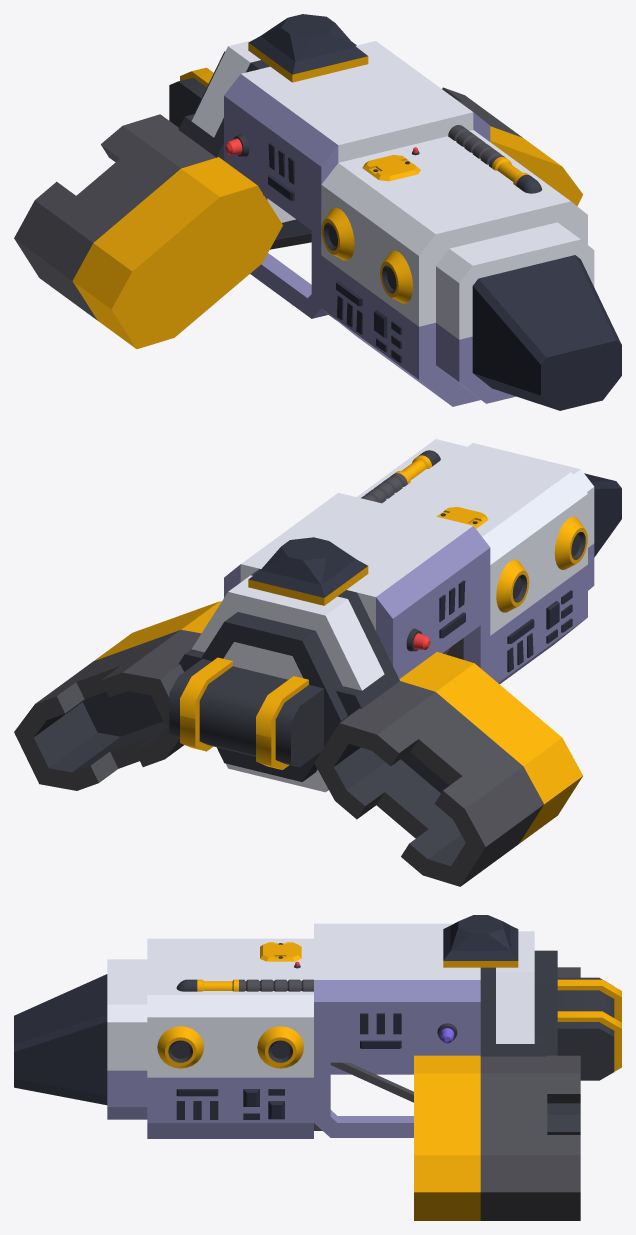
Rendered from Ship_0 3D.fbx.
3 renders of one model, top to bottom at view 1: azimuth 30°, elevation 25°; view 2: azimuth 150°, elevation 25°; view 3: azimuth 270°, elevation 25°, orthographic. The views are drawn at different scales.
Visible parts, largest first — view 1: engine_low (×2), hull_body, hull_cockpitExtended%, hull_cargoLower, window_dome, engine_turbineLarge%, detail_ventRound (×2), detail_panelsC (×2), detail_luggage, detail_panelBolts, detail_pipeRibbed, detail_pipeEndRound (+1 smaller); view 2: engine_low (×2), hull_cargoLower, hull_body, engine_turbineLarge%, detail_luggage (×2), window_dome, hull_cockpitExtended%, detail_ventRound (×2), detail_panelsC (×2), detail_panelsB, detail_pipeRibbed, detail_panelBolts (+1 smaller); view 3: engine_low, hull_body, hull_cargoLower, hull_cockpitExtended%, engine_turbineLarge%, detail_luggage (×2), window_dome, detail_ventRound (×2), detail_panelsC (×2), detail_pipeRibbed, gear_half, detail_panelsA (+2 smaller).
Part boxes in pixels (x1=…): engine_low (×2): x1=14, y1=87, x2=582, y2=349; hull_body: x1=321, y1=130, x2=587, y2=406; hull_cockpitExtended%: x1=436, y1=222, x2=621, y2=410; hull_cargoLower: x1=224, y1=41, x2=490, y2=318; window_dome: x1=248, y1=14, x2=368, y2=82; engine_turbineLarge%: x1=178, y1=40, x2=356, y2=238; detail_ventRound (×2): x1=321, y1=208, x2=412, y2=303; detail_panelsC (×2): x1=268, y1=143, x2=362, y2=334; detail_luggage: x1=169, y1=67, x2=213, y2=116; detail_panelBolts: x1=362, y1=155, x2=420, y2=181; detail_pipeRibbed: x1=448, y1=125, x2=505, y2=167; detail_pipeEndRound: x1=492, y1=157, x2=542, y2=193; engine_low (×2): x1=14, y1=601, x2=582, y2=886; hull_cargoLower: x1=224, y1=493, x2=490, y2=678; hull_body: x1=356, y1=439, x2=587, y2=684; engine_turbineLarge%: x1=178, y1=568, x2=399, y2=792; detail_luggage (×2): x1=169, y1=657, x2=323, y2=769; window_dome: x1=248, y1=537, x2=368, y2=605; hull_cockpitExtended%: x1=468, y1=443, x2=621, y2=590; detail_ventRound (×2): x1=496, y1=517, x2=587, y2=612; detail_panelsC (×2): x1=439, y1=580, x2=534, y2=672; detail_panelsB: x1=546, y1=590, x2=572, y2=643; detail_pipeRibbed: x1=361, y1=473, x2=407, y2=503; detail_panelBolts: x1=436, y1=506, x2=488, y2=528; engine_low: x1=414, y1=1055, x2=580, y2=1220; hull_body: x1=147, y1=938, x2=313, y2=1138; hull_cargoLower: x1=314, y1=923, x2=480, y2=1137; hull_cockpitExtended%: x1=14, y1=959, x2=147, y2=1119; engine_turbineLarge%: x1=480, y1=931, x2=557, y2=1056; detail_luggage (×2): x1=557, y1=977, x2=621, y2=1080; window_dome: x1=443, y1=915, x2=518, y2=967; detail_ventRound (×2): x1=157, y1=1026, x2=303, y2=1068; detail_panelsC (×2): x1=176, y1=1013, x2=401, y2=1119; detail_pipeRibbed: x1=239, y1=979, x2=313, y2=991; gear_half: x1=314, y1=1062, x2=413, y2=1130; detail_panelsA: x1=243, y1=1089, x2=284, y2=1119.
Bounding box in the file's own units: 27.93 × 13.8 × 36.48.
